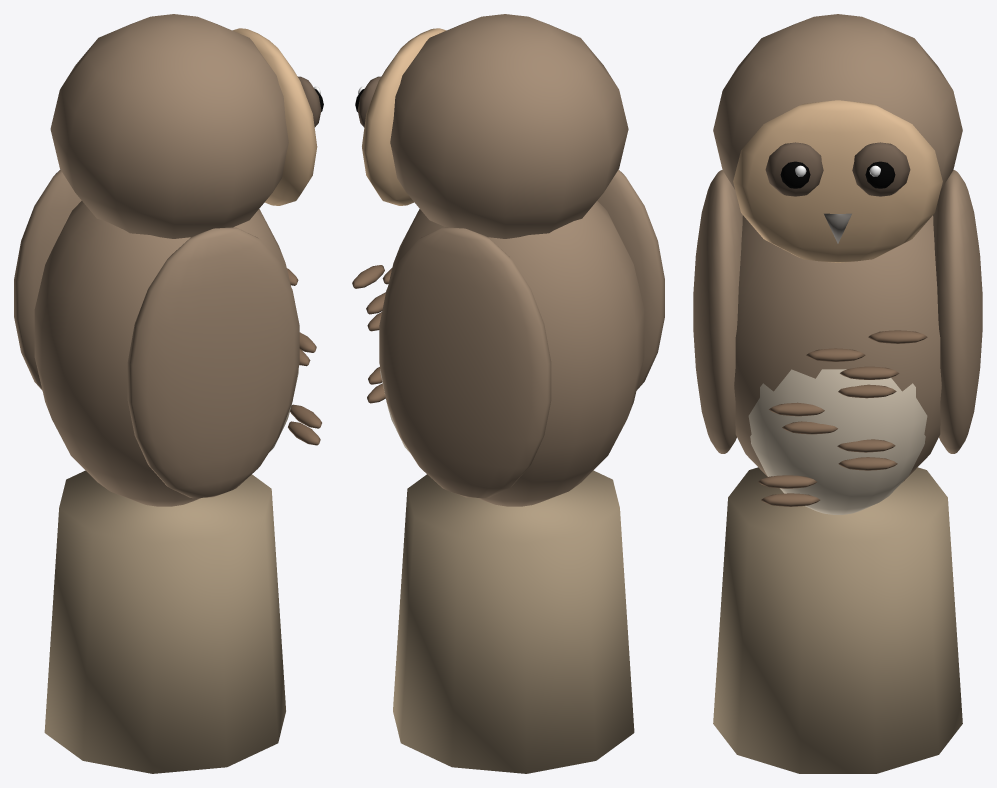
Rendered from brown-wood-owl.glb.
The picture shows the model from 3 angles, left to right: view 1: azimuth 30°, elevation 25°; view 2: azimuth 150°, elevation 25°; view 3: azimuth 270°, elevation 25°; orthographic projection.
Visible parts, largest first — view 1: e.008, cone, e.020, e.021; view 2: e.008, cone, e.021, e.020; view 3: e.008, cone, e.020, e.021.
Part boxes in pixels (bbox=[...]): e.008: bbox=[34, 201, 321, 773]; cone: bbox=[50, 14, 323, 238]; e.020: bbox=[127, 227, 299, 498]; e.021: bbox=[14, 169, 81, 390]; e.008: bbox=[352, 201, 644, 773]; cone: bbox=[355, 14, 628, 238]; e.021: bbox=[379, 227, 551, 498]; e.020: bbox=[597, 169, 664, 390]; e.008: bbox=[713, 215, 962, 773]; cone: bbox=[713, 14, 962, 262]; e.020: bbox=[693, 170, 742, 453]; e.021: bbox=[933, 170, 982, 453].
Bounding box in the file's own units: 0.5812 × 1.55 × 0.5788.
